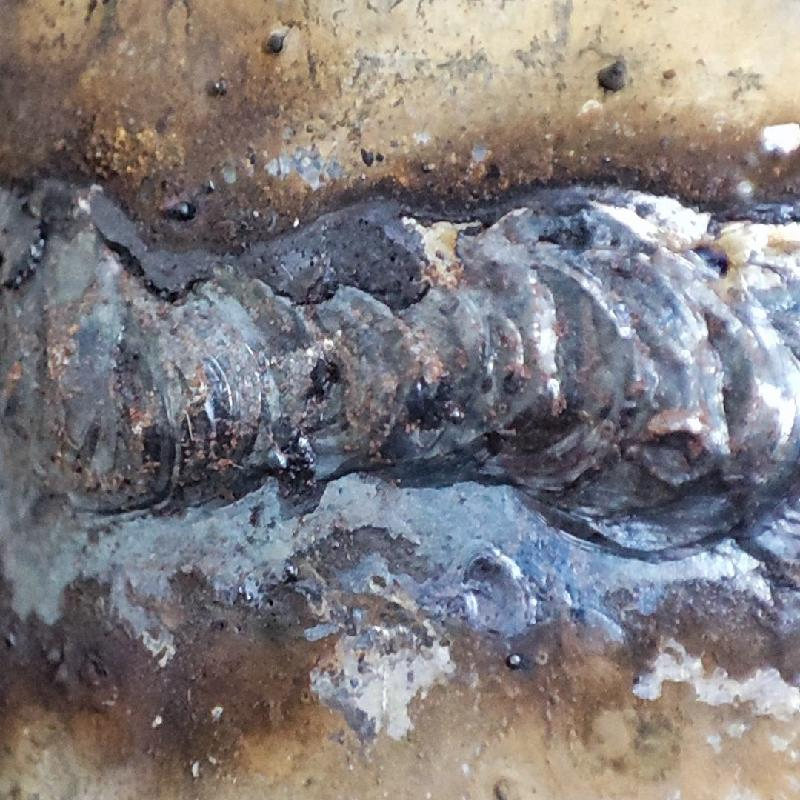Surface_pores: (301, 353, 348, 408)
good: (1, 168, 799, 595)
